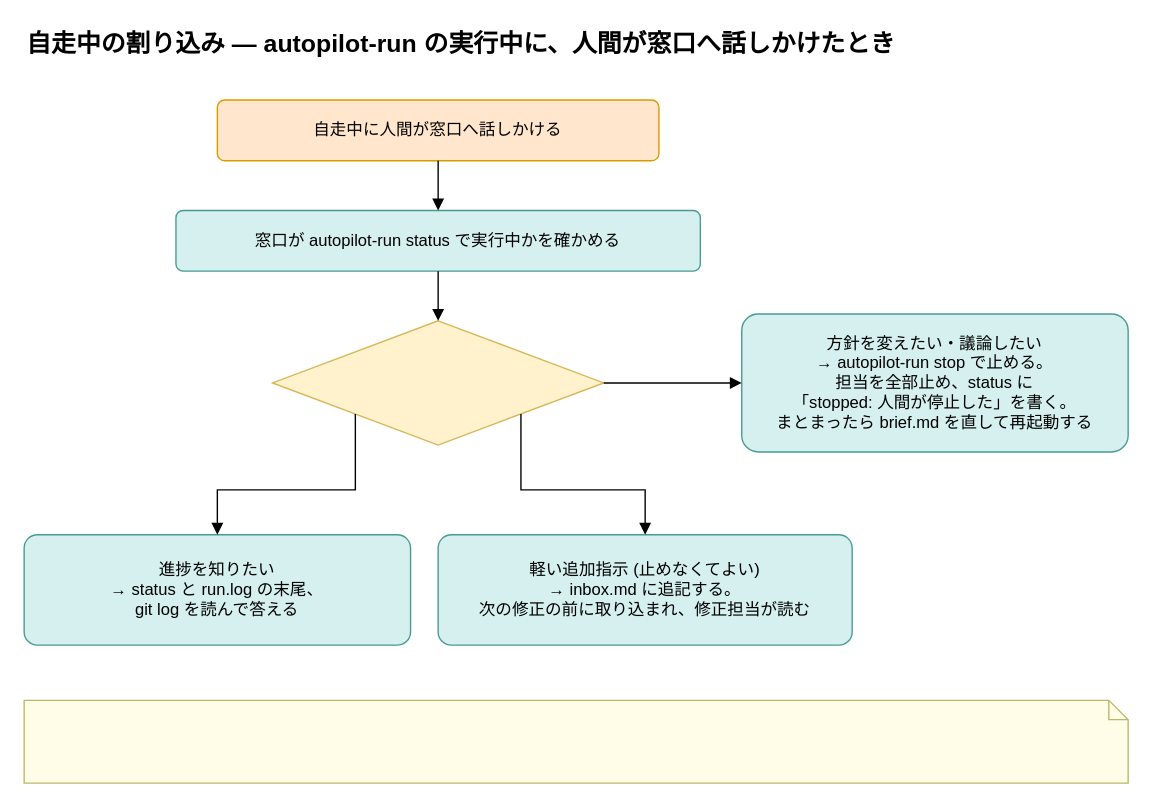
Image size: 1152x807. Some labels were removed from this diagram. Each missing label, with the centre of its shape:
"人間の意図は" goes at point (437, 382).
"実行中は窓口がコードを書き換えない。同じ worktree を並行で触ると壊れる。 担当エージェントの実行中は、人間に通知は鳴らない" goes at point (575, 741).
